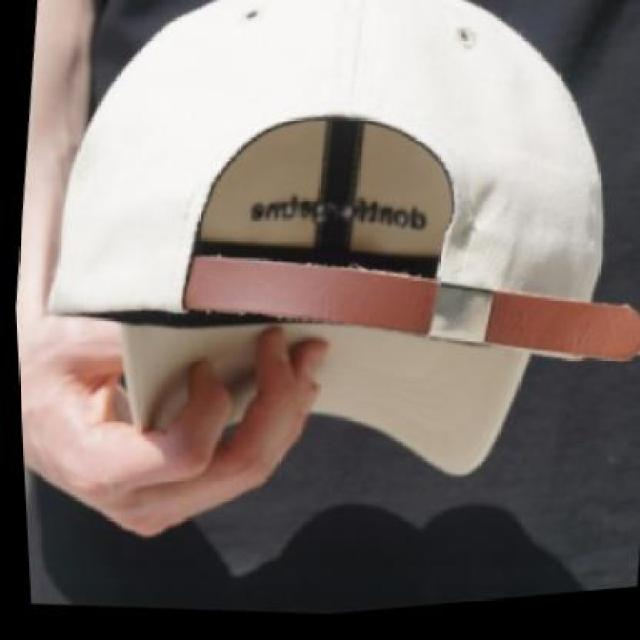hat: (11, 0, 640, 538)
